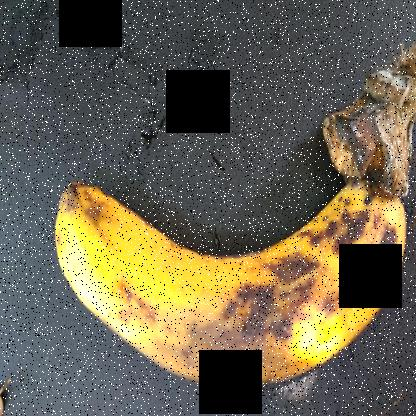overripe: (42, 150, 415, 397)
rotten: (134, 274, 329, 415)
